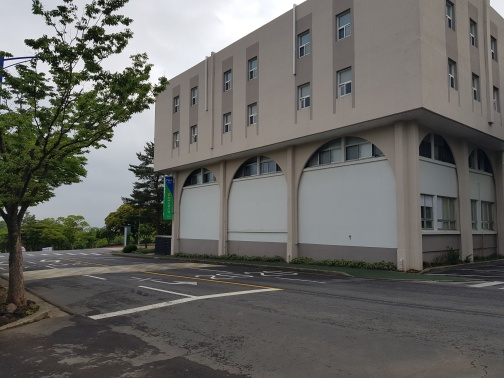Main Building of University: (145, 6, 504, 275), (163, 31, 275, 156), (179, 133, 395, 190), (412, 127, 500, 266), (434, 6, 487, 114), (160, 171, 175, 224)
